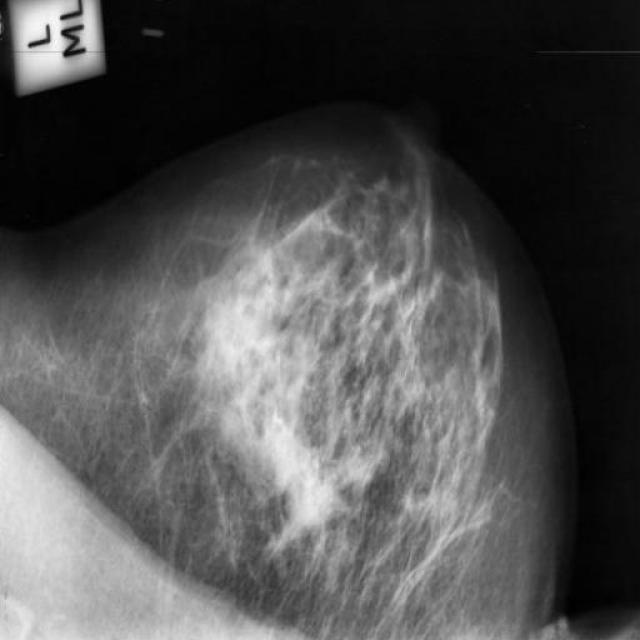cancer: (344, 230, 445, 354)
